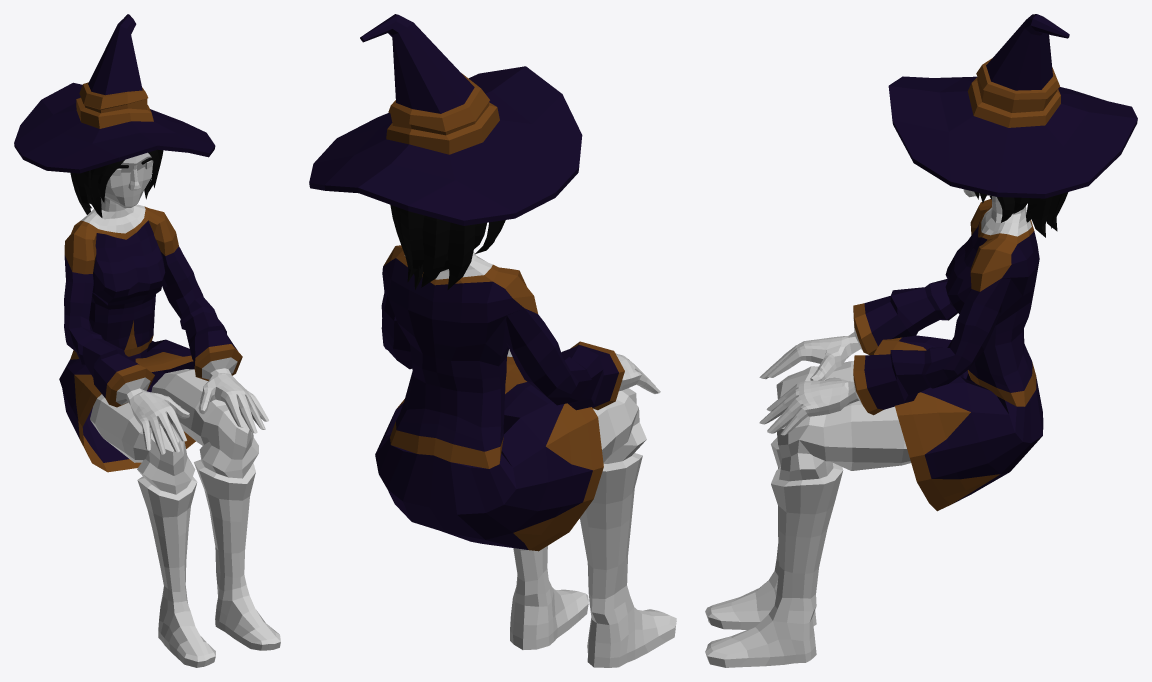
The model's file is w_witch.obj.
3 renders of one model, left to right at view 1: azimuth 30°, elevation 25°; view 2: azimuth 150°, elevation 25°; view 3: azimuth 270°, elevation 25°, orthographic. The views are drawn at different scales.
Parts seen in each view (by area): view 1: Witch_Body, Witch_Head, Witch_Legs, Witch_Feet; view 2: Witch_Head, Witch_Body, Witch_Legs, Witch_Feet; view 3: Witch_Head, Witch_Body, Witch_Legs, Witch_Feet.
Part boxes in pixels (x1=…): Witch_Body: x1=64, y1=204, x2=268, y2=454; Witch_Head: x1=14, y1=14, x2=215, y2=217; Witch_Legs: x1=59, y1=339, x2=258, y2=494; Witch_Feet: x1=137, y1=459, x2=280, y2=667; Witch_Head: x1=309, y1=14, x2=582, y2=289; Witch_Body: x1=381, y1=245, x2=660, y2=468; Witch_Legs: x1=375, y1=356, x2=646, y2=551; Witch_Feet: x1=510, y1=453, x2=676, y2=667; Witch_Head: x1=888, y1=14, x2=1137, y2=237; Witch_Body: x1=759, y1=199, x2=1039, y2=435; Witch_Legs: x1=776, y1=335, x2=1043, y2=511; Witch_Feet: x1=705, y1=437, x2=843, y2=667.
Size of the model in its own units: 0.5255 by 1.56 by 0.9516.
